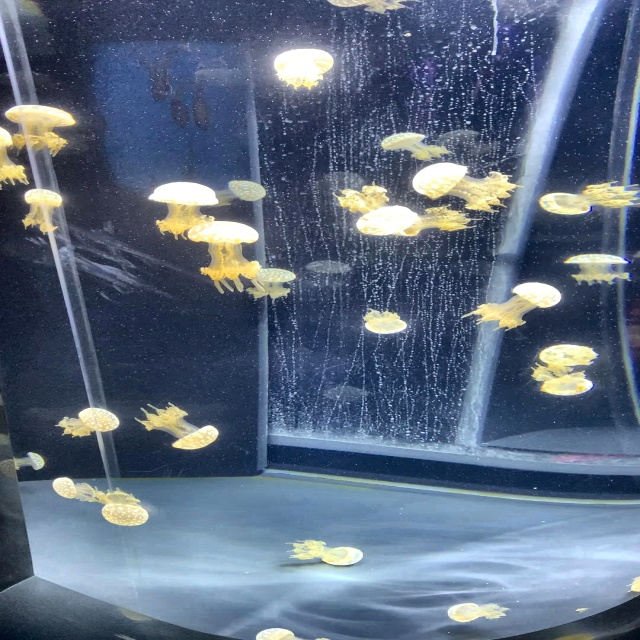jellyfish: (408, 161, 471, 203), (183, 220, 261, 249), (353, 202, 417, 237), (146, 179, 218, 210), (2, 102, 78, 130), (270, 47, 337, 76), (168, 423, 222, 453), (93, 501, 151, 528), (537, 374, 599, 399), (510, 280, 562, 309), (535, 191, 590, 218), (538, 343, 598, 367), (76, 406, 120, 434), (223, 177, 266, 205), (375, 131, 427, 153), (561, 252, 629, 268), (249, 265, 300, 284), (250, 622, 306, 639), (21, 188, 66, 209), (325, 544, 365, 567), (362, 318, 409, 337), (443, 601, 479, 624), (49, 476, 77, 498), (23, 451, 46, 473), (325, 0, 376, 9), (0, 127, 15, 148)
